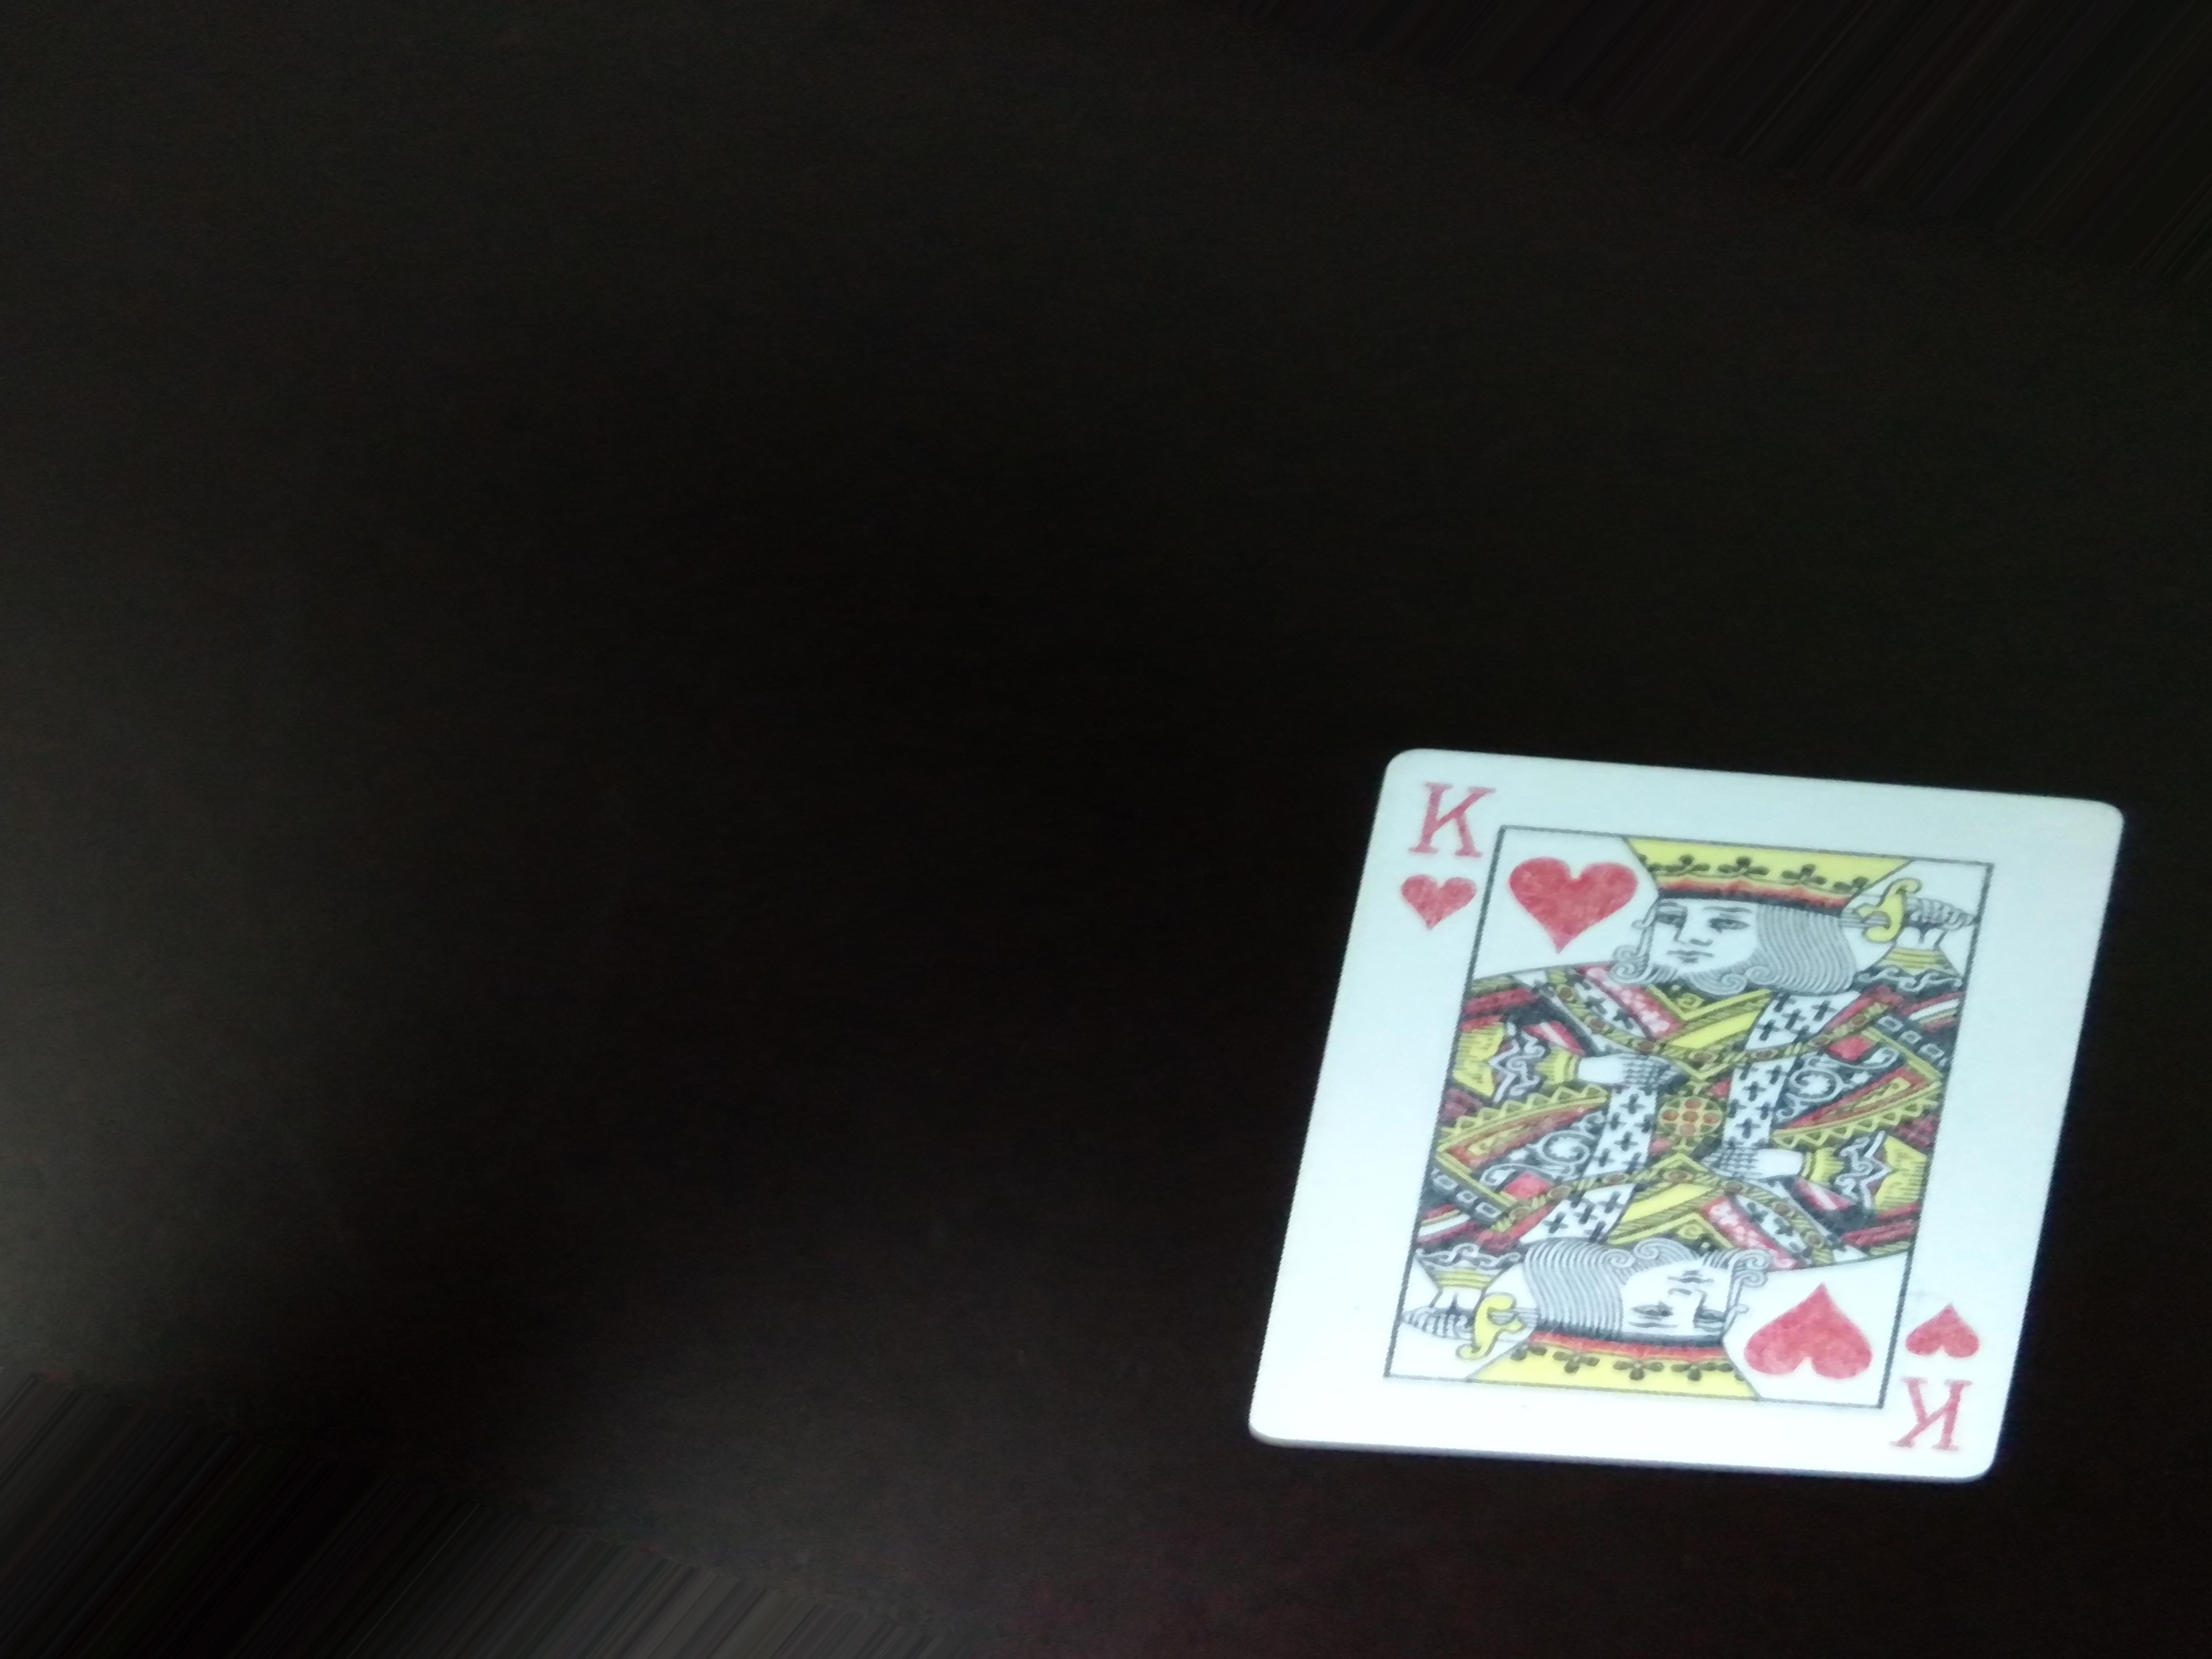KH: (1400, 756, 1507, 938)
